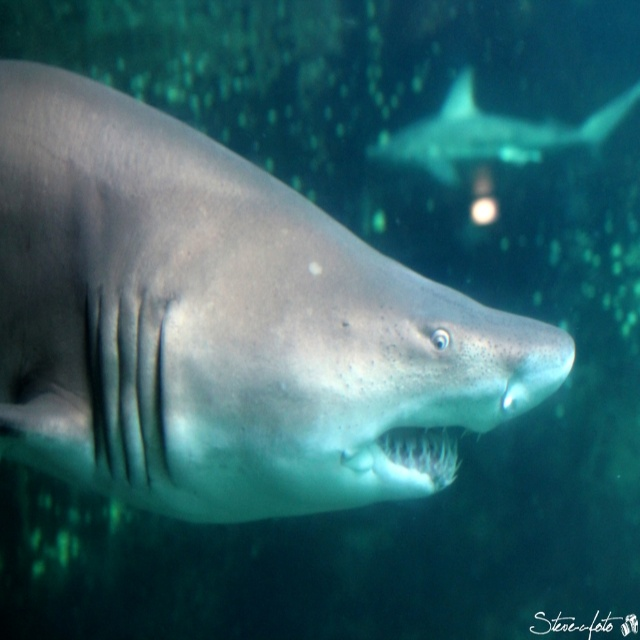Shark: (0, 55, 585, 530)
